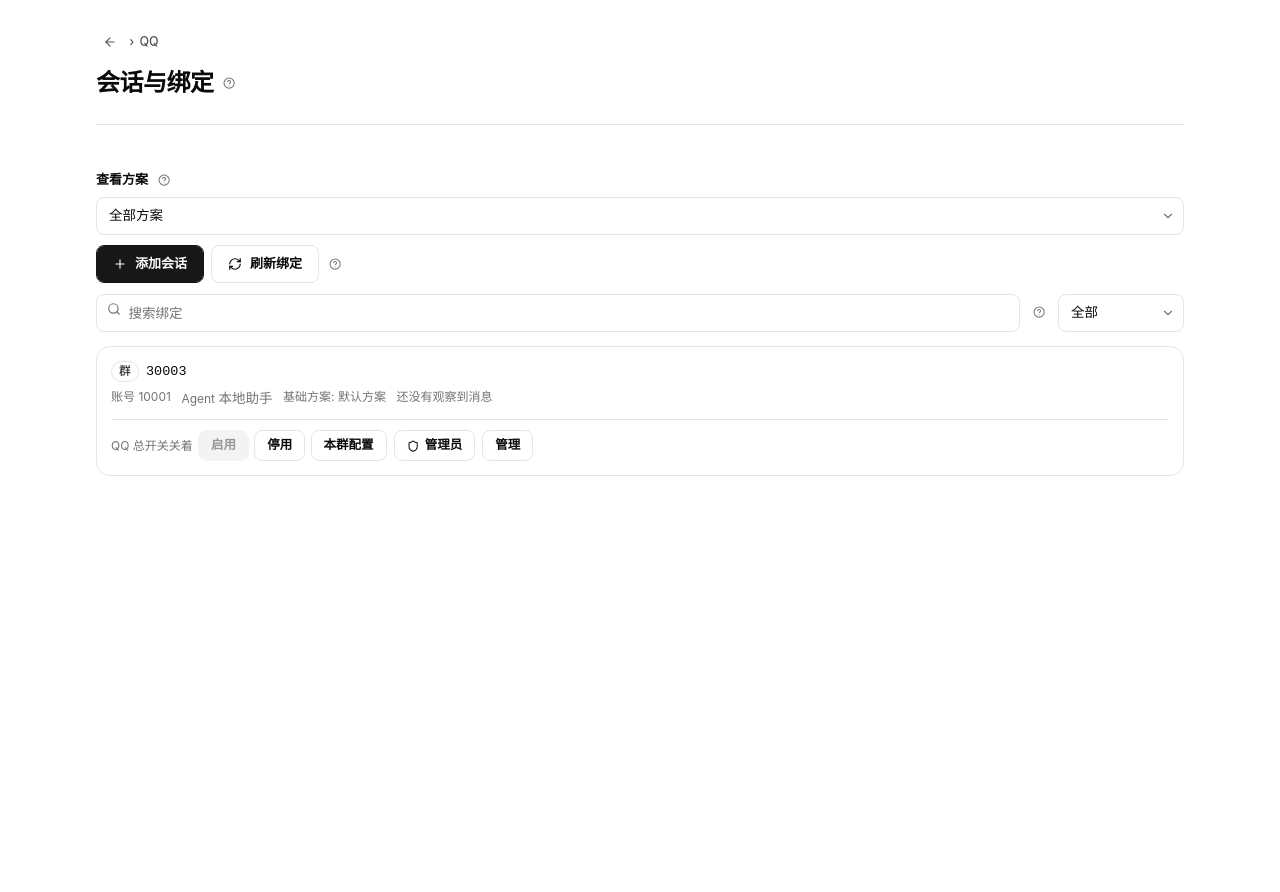
Test case: QQ Admin Navigation & Integration › disables save button and prevents submit when input contains invalid tokens
This screenshot has width=1280, height=892.
Click the button "管理员" at (434, 446), box [394,430,475,461]
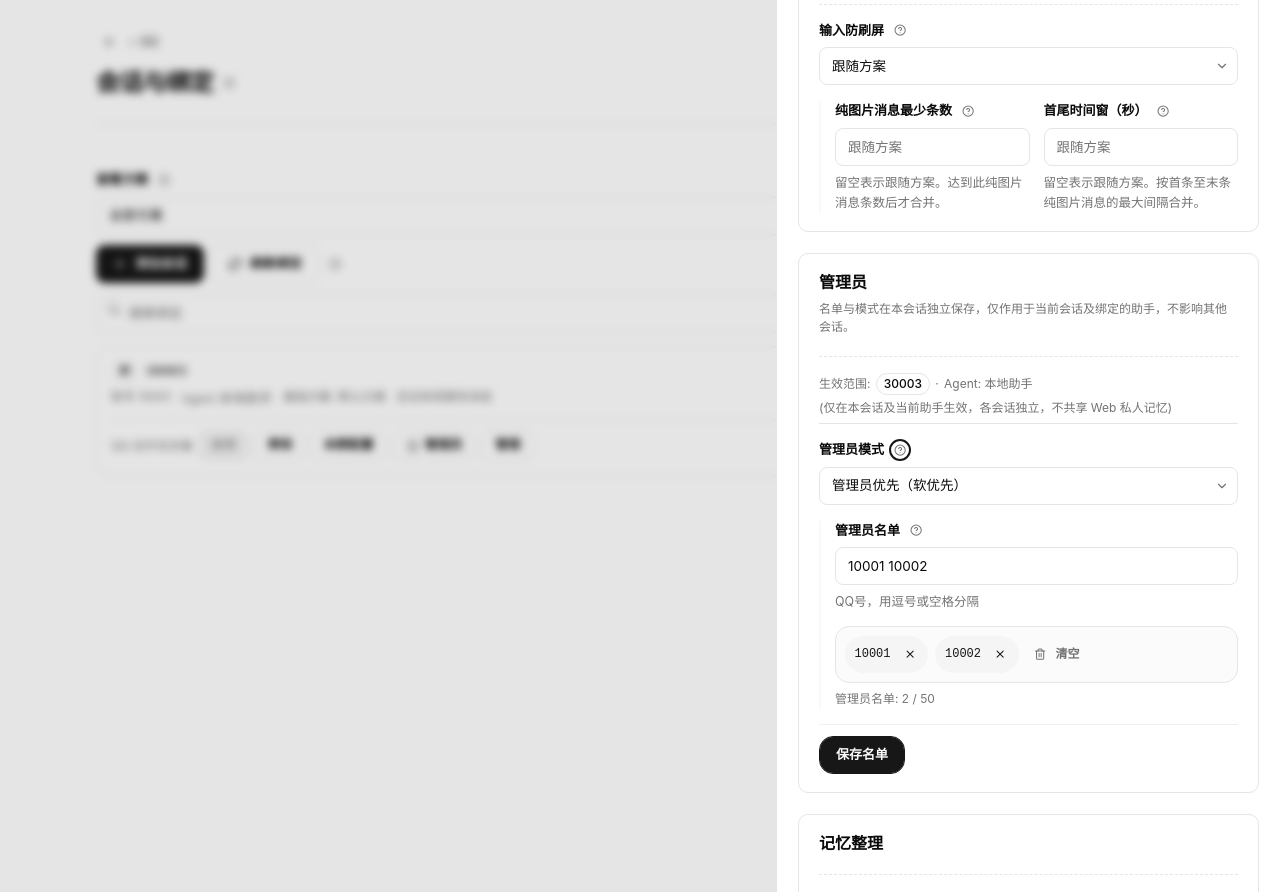
Replace the text in the field labelled "管理员名单" with "10001 abc" at (1036, 566), box [835,547,1238,585]
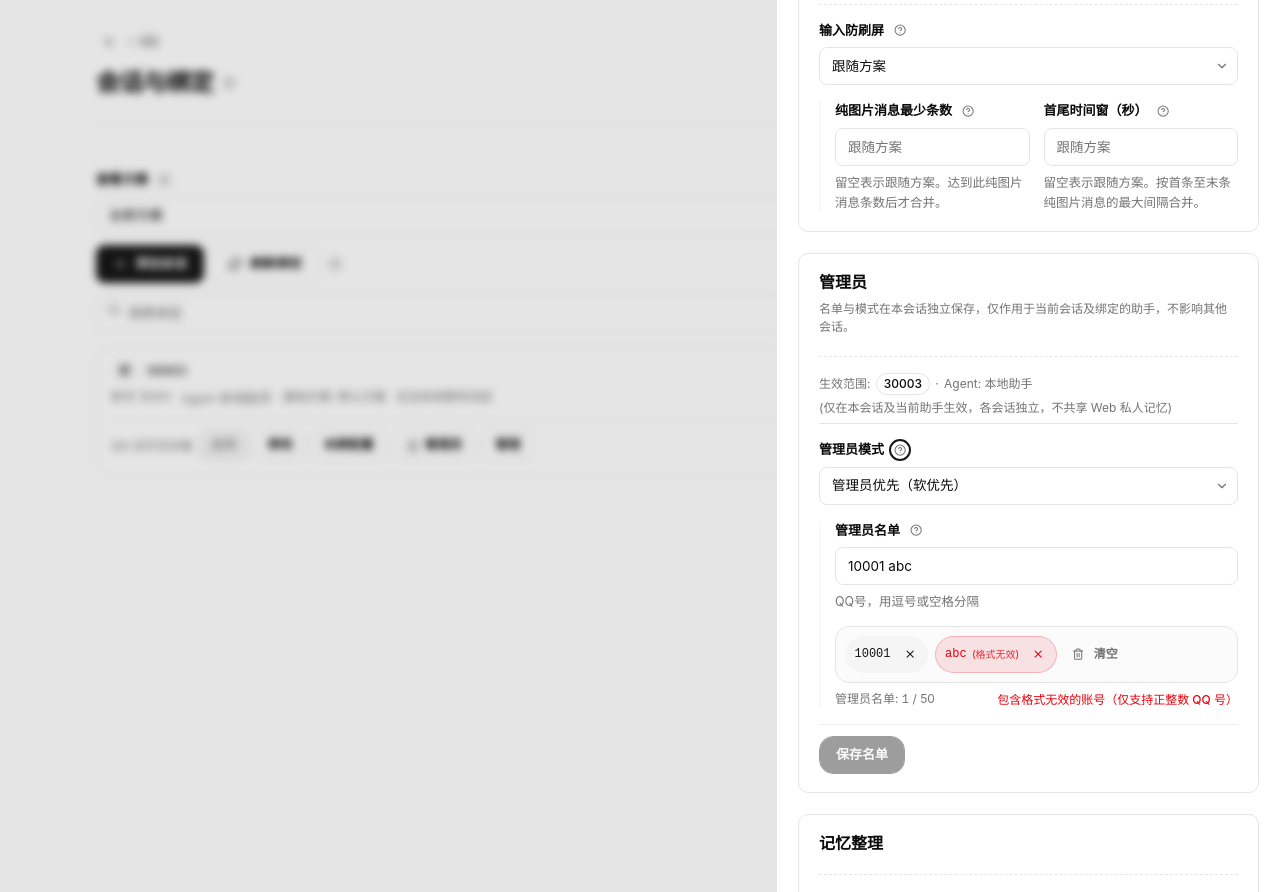
Check: the button "保存名单" is disabled, box [819,736,905,774]
